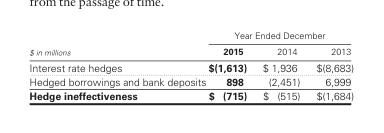table: (28, 29, 353, 101)
table column: (28, 29, 206, 101), (254, 29, 307, 101), (206, 29, 254, 101), (307, 29, 353, 101)
table column header: (28, 29, 353, 58)
table row: (28, 42, 353, 58), (28, 58, 353, 74), (28, 74, 353, 88), (28, 29, 353, 42), (28, 88, 353, 101)
table spanning cell: (28, 29, 206, 58), (206, 29, 353, 42)
